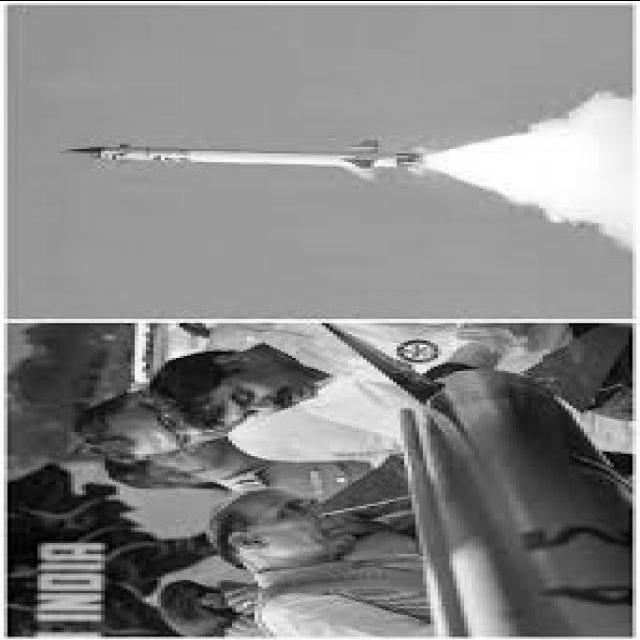missile: (59, 139, 449, 176)
